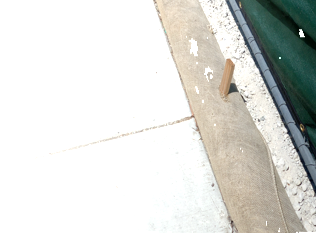Edge: (155, 1, 314, 232)
